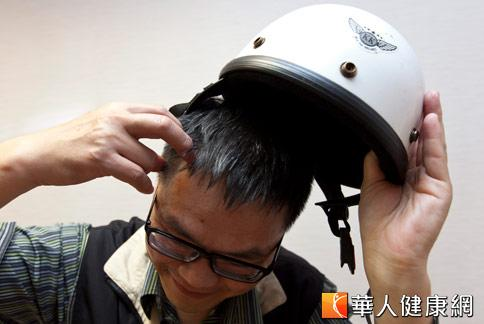helmet: (216, 3, 443, 169)
